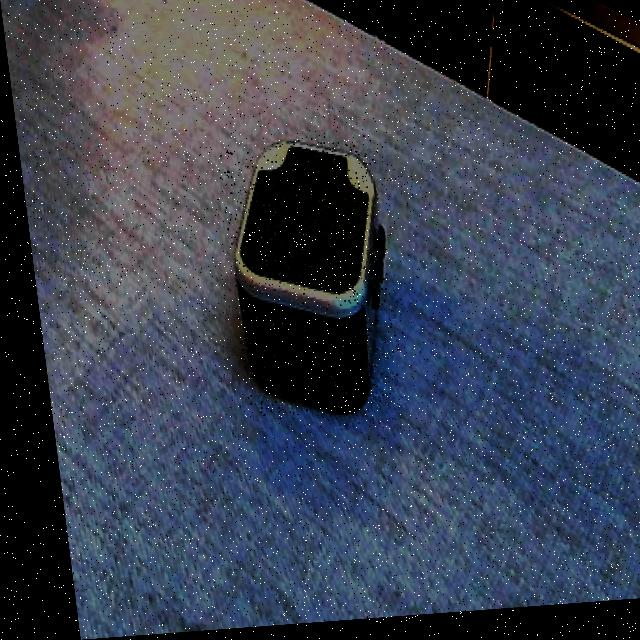adapter: (212, 138, 395, 422)
